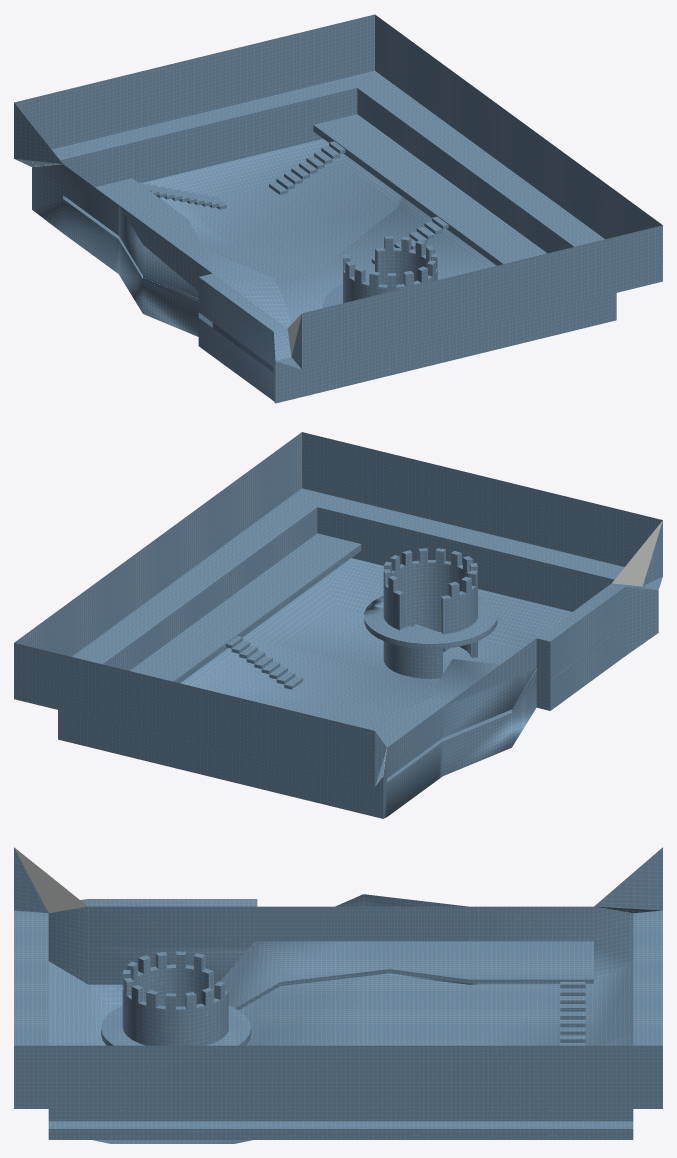
File: collision-world_1.glb
3 renders of one model, top to bottom at view 1: azimuth 30°, elevation 25°; view 2: azimuth 150°, elevation 25°; view 3: azimuth 270°, elevation 25°, orthographic. The views are drawn at different scales.
Visible parts, largest first — view 1: Cube.004; view 2: Cube.004; view 3: Cube.004.
Part boxes in pixels (<box>): Cube.004: <box>14,14,662,403</box>; Cube.004: <box>14,432,662,818</box>; Cube.004: <box>14,847,662,1143</box>.
Size of the model in its own units: 25.62 by 8.6 by 34.36.
Materials: 1 (1 with a texture image).
